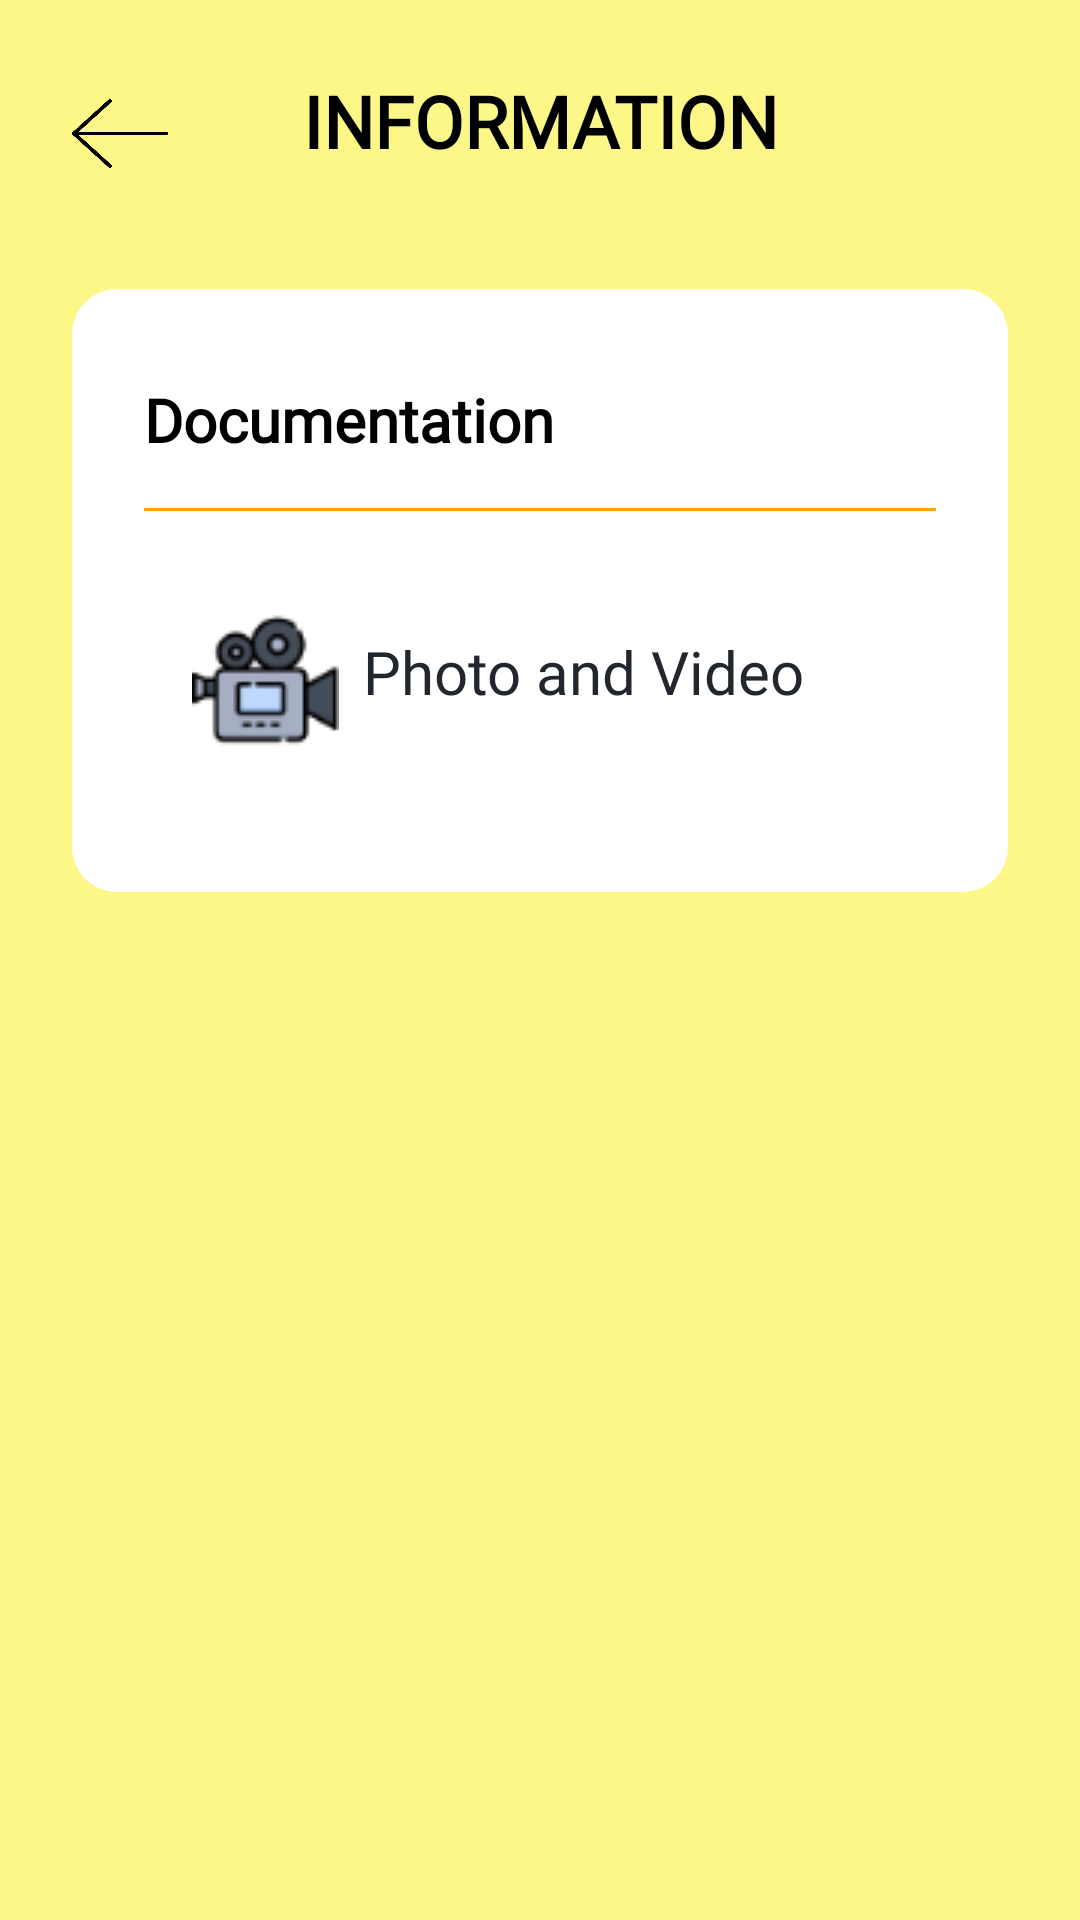

Screen size 1080*1920. Icon name, then its box in pixels as [x1=x1, y1=y1, x2=x2, y2=y2]:
buttonback: [x1=72, y1=99, x2=168, y2=168]
